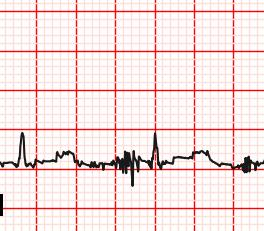LVH: (46, 147, 82, 170)
Poor R Progression: (11, 128, 32, 172)
